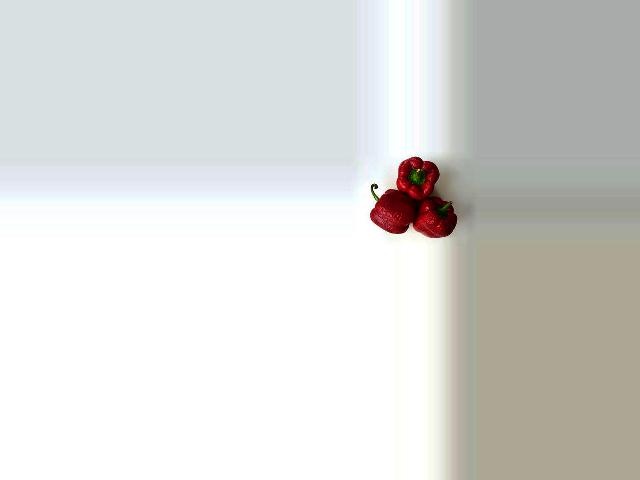bell_pepper: (359, 181, 412, 236)
